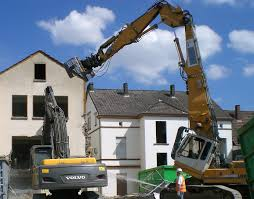excavator: (65, 4, 250, 199), (30, 87, 109, 199)
